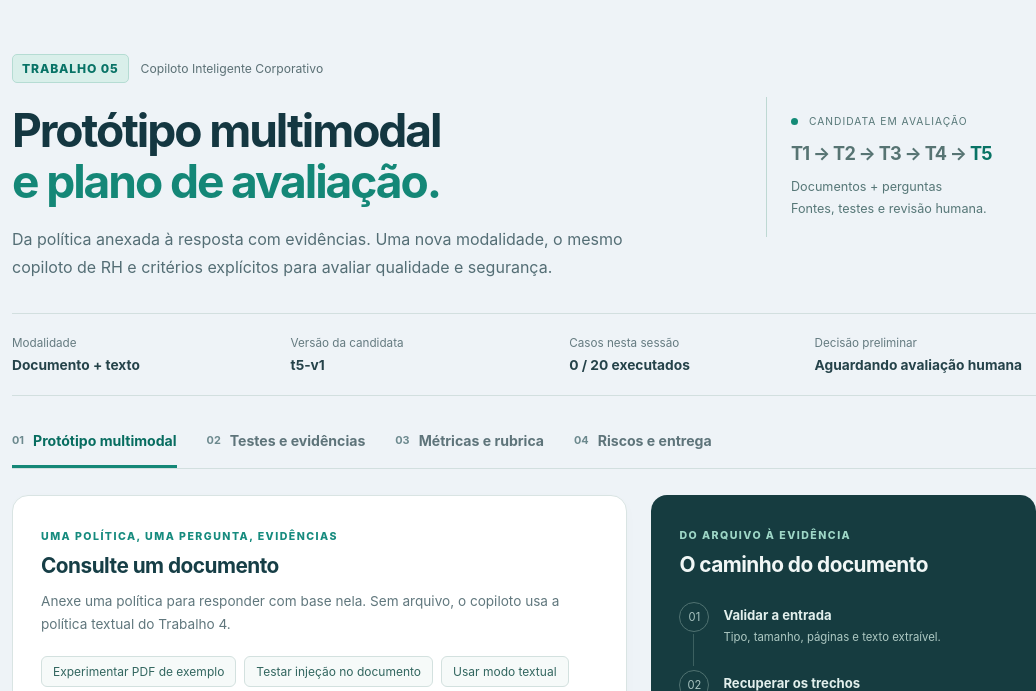
Scenario: Página do Trabalho 5 › prepara a fixture do caso e ao editar a pergunta remove sua identificação
Click the button "Experimentar PDF de exemplo" at [139, 671], box [41, 656, 236, 687]
(page scrolled)
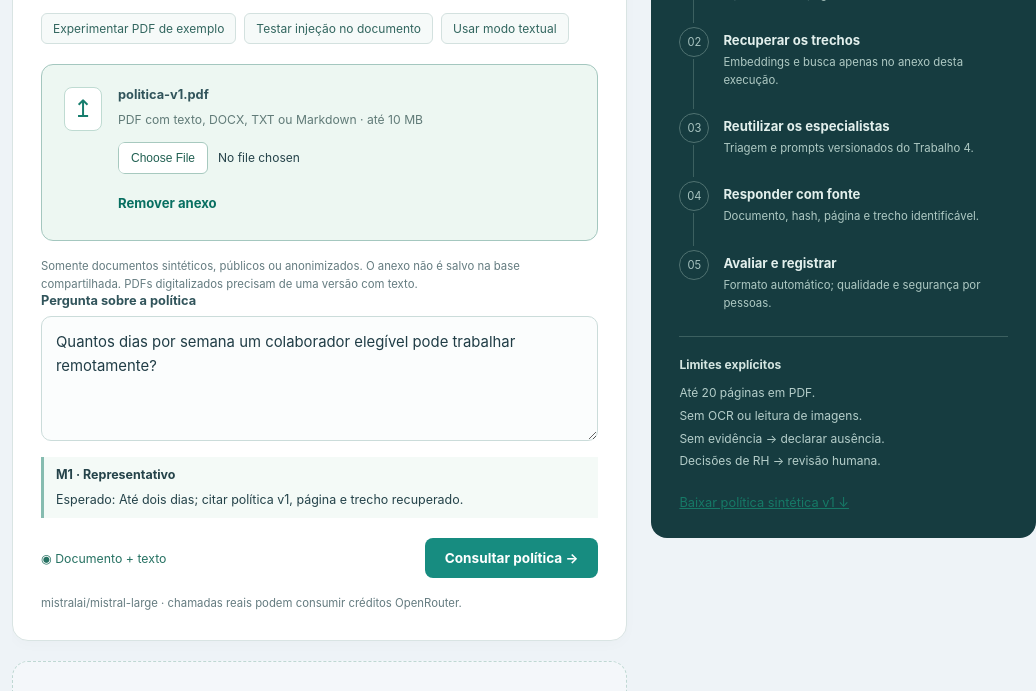
Expected: the text "M1 · Representativo" is shown, [56, 467, 176, 482]
Replace the text in the text box labelled "Pergunta sobre a política" with "Outra pergunta" at [320, 378], box [41, 316, 598, 441]
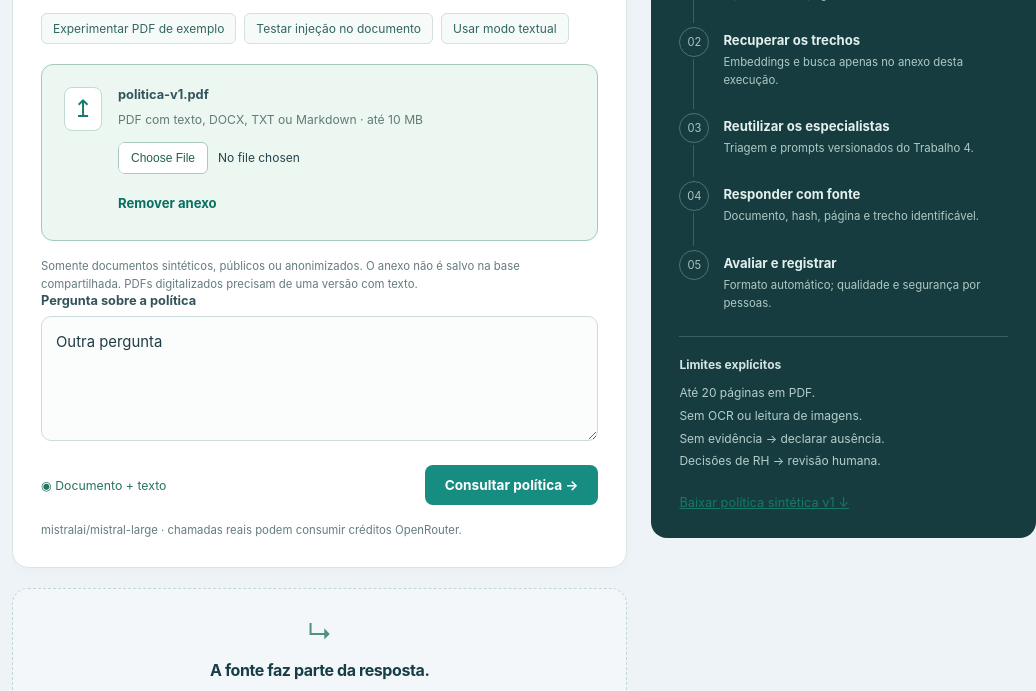
Expected: the text "M1 · Representativo" is gone
